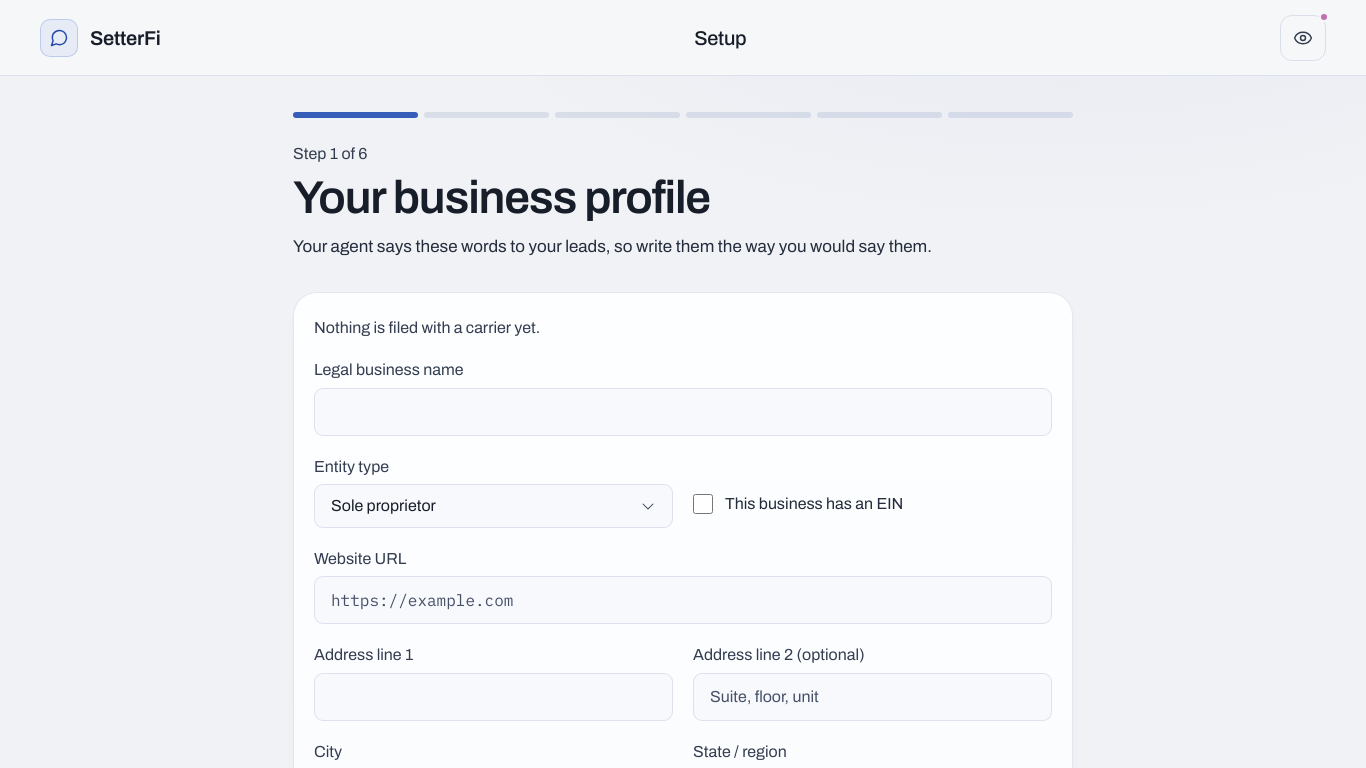
Test: BusinessProfilePage › announces why the submit is disabled, and names the message from both controls
This screenshot has width=1366, height=768.
Expected: the text "Nothing is filed with a carrier yet." is shown, x1=314 y1=319 x2=540 y2=336
Click the dropdown named "Entity type" at [383, 505], box x1=314 y1=484 x2=673 y2=528
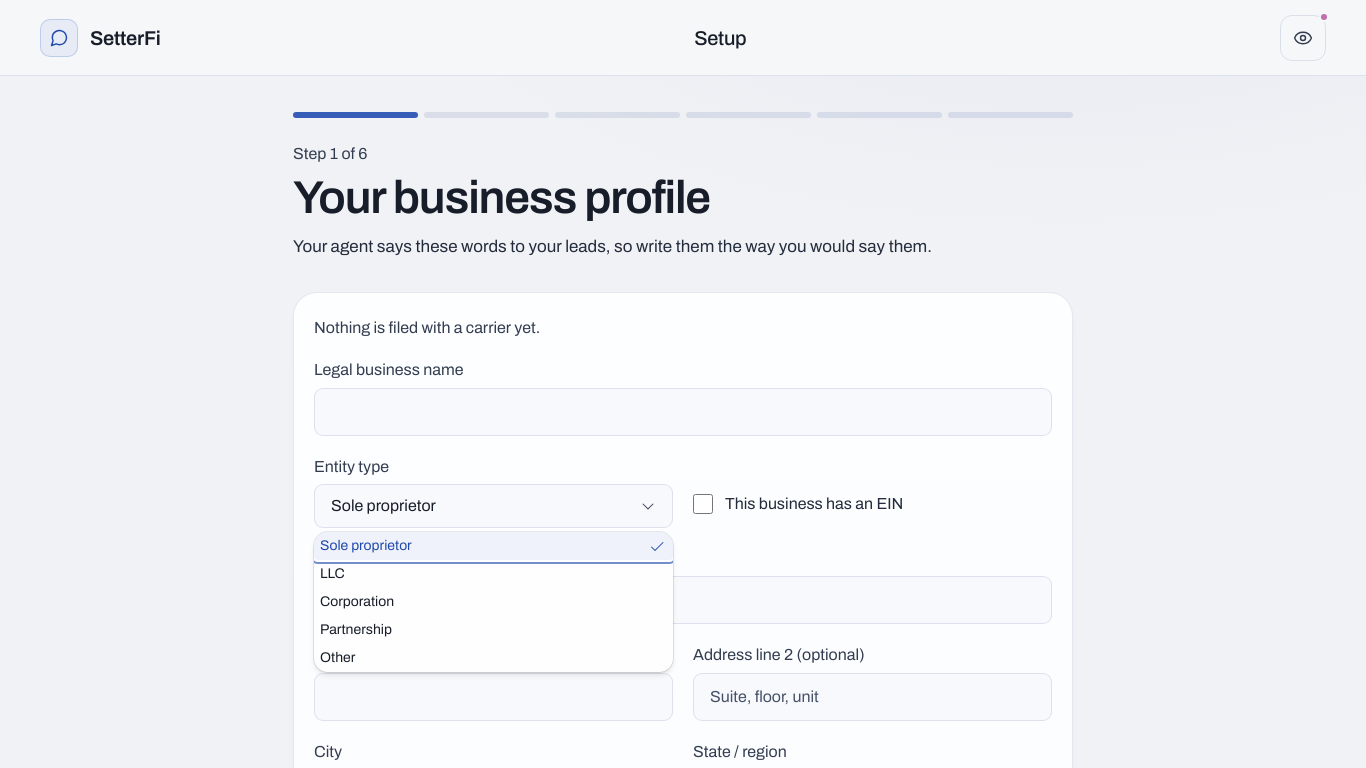
Click the option "LLC" at [332, 574], box x1=320 y1=566 x2=345 y2=581
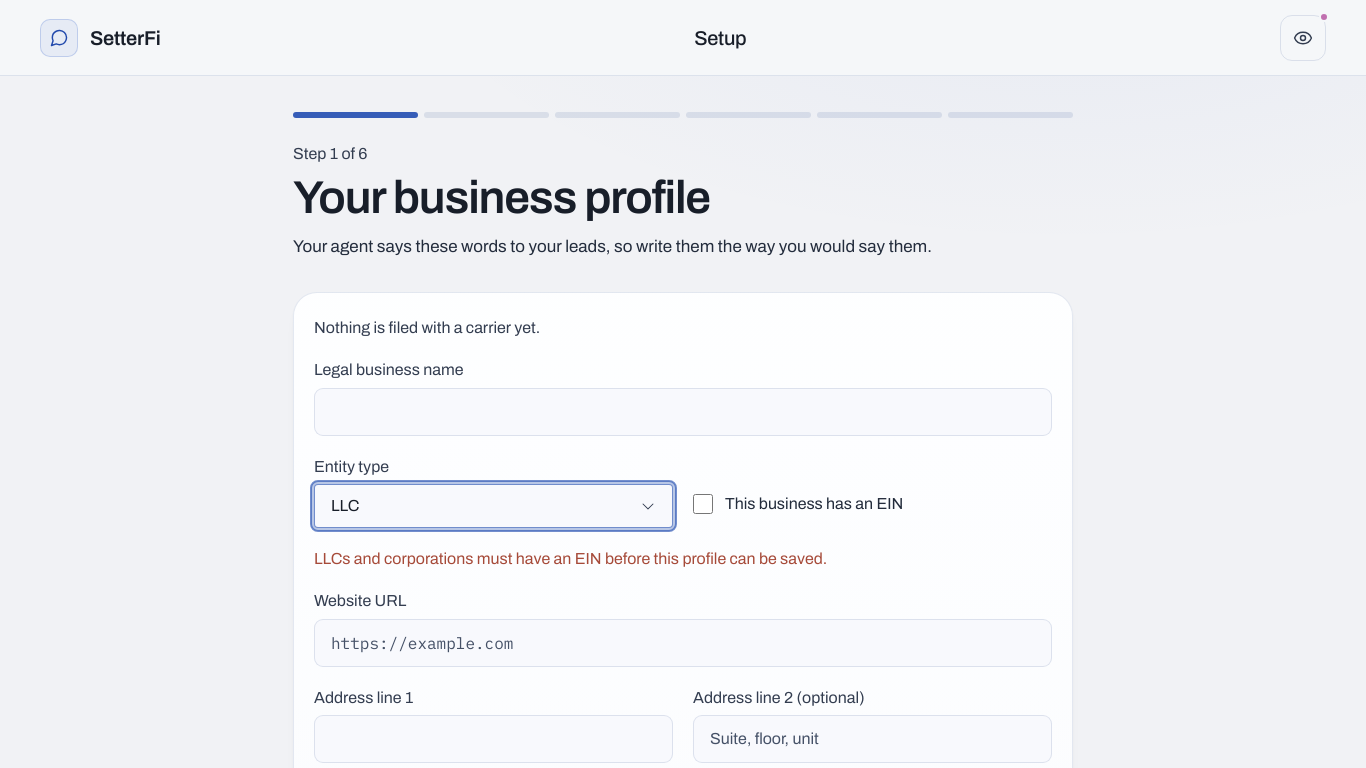
Expected: the message reads "LLCs and corporations must have an EIN before this profile can be saved.", x1=314 y1=550 x2=827 y2=567
Click the checkbox labelled "This business has an EIN" at [703, 504], box x1=693 y1=494 x2=713 y2=514
(page scrolled)
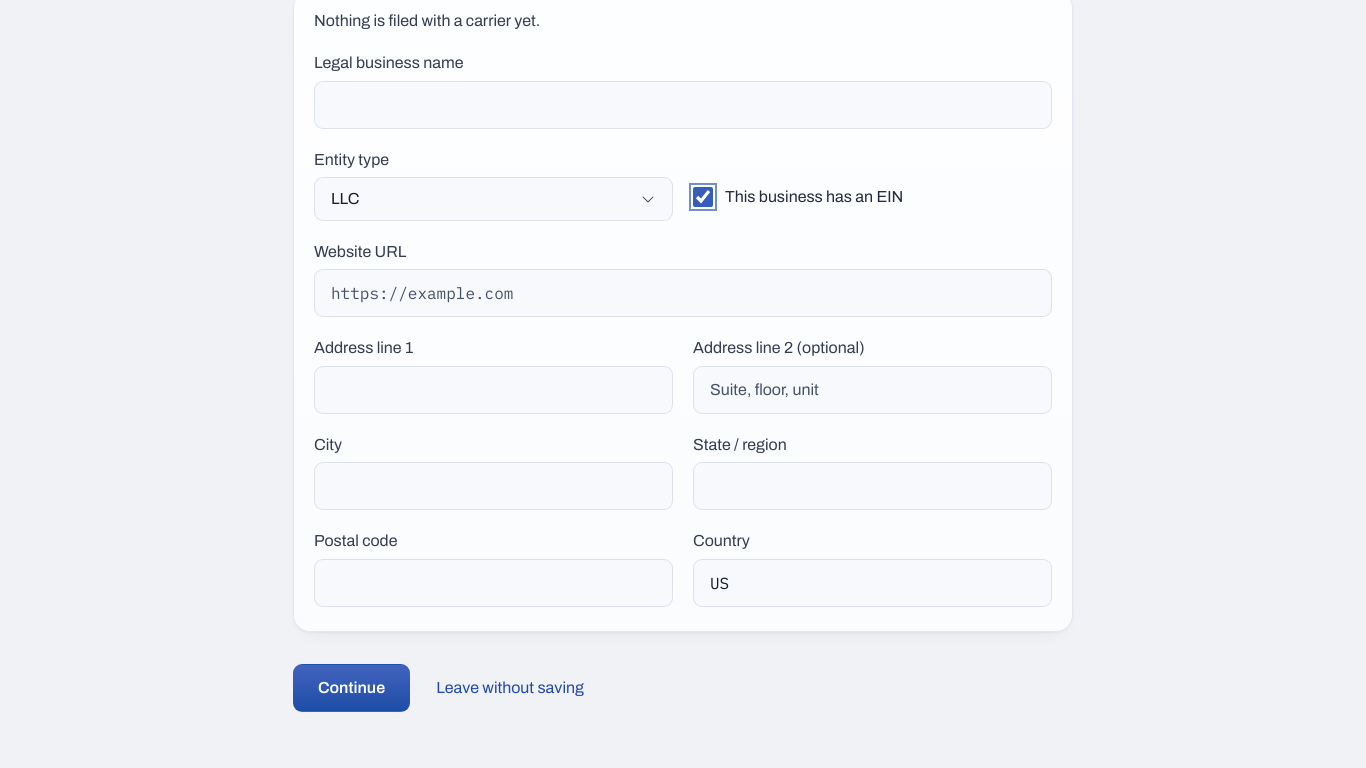
Expected: the message "LLCs and corporations must have an EIN before this profile can be saved." is gone
